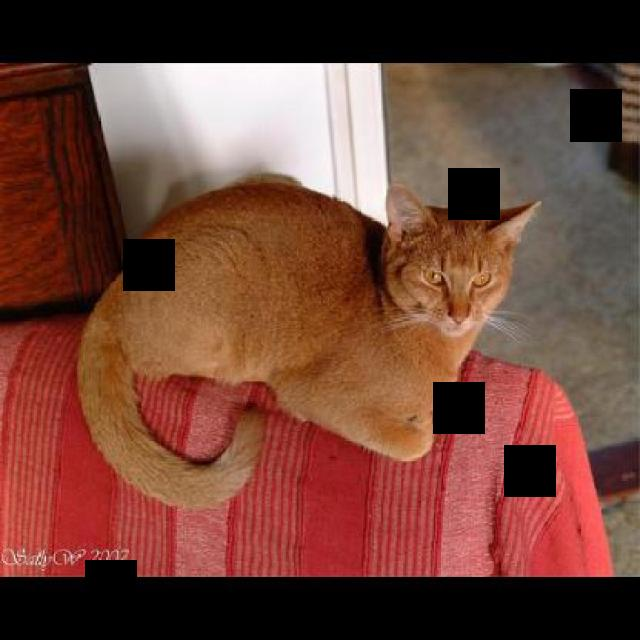unauthorized: (74, 171, 541, 509)
